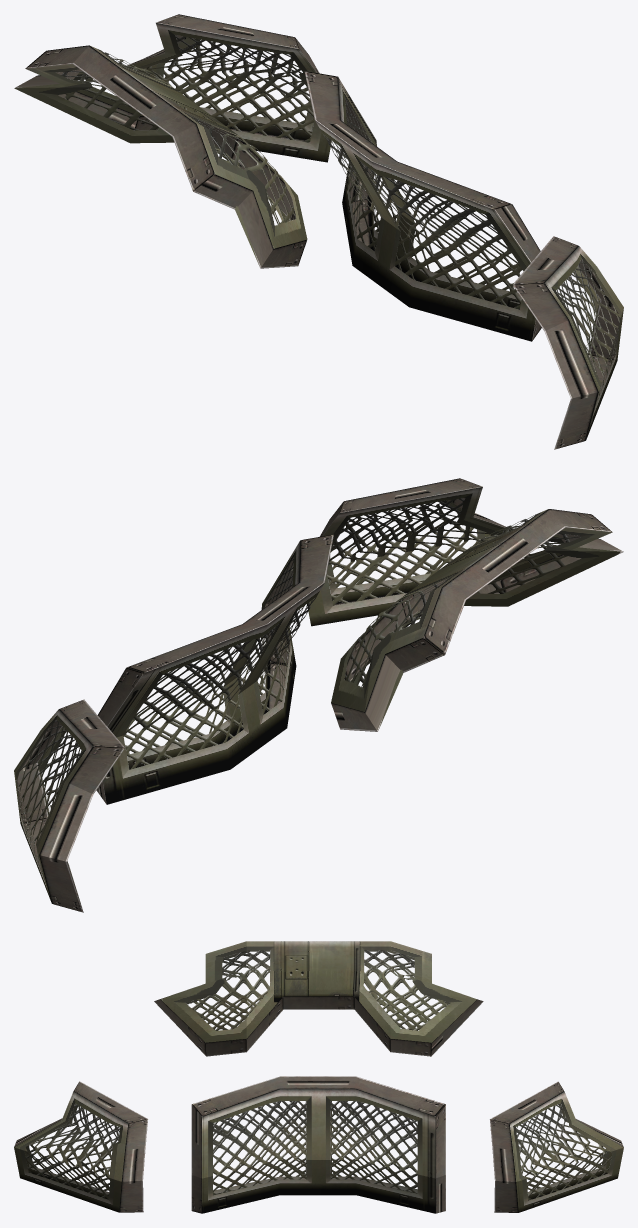
The model's file is constructor_unit_shield.obj.
3 renders of one model, top to bottom at view 1: azimuth 30°, elevation 25°; view 2: azimuth 150°, elevation 25°; view 3: azimuth 270°, elevation 25°, orthographic. The views are drawn at different scales.
Visible parts, largest first — view 1: polySurface7; view 2: polySurface7; view 3: polySurface7.
Boxes of the visible parts, x1,y1,x2,y2 form: polySurface7: [14, 14, 623, 449]; polySurface7: [14, 478, 623, 912]; polySurface7: [14, 941, 623, 1213].
Size of the model in its own units: 14.63 by 9.84 by 31.32.
Materials: 1 (1 with a texture image).
